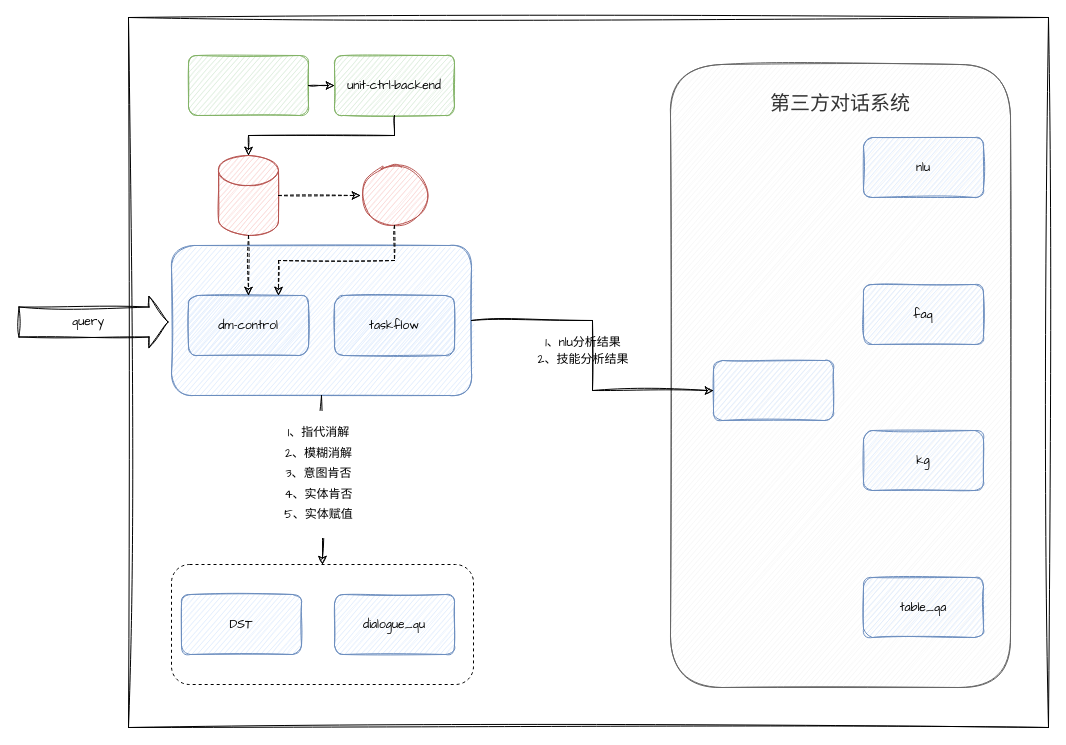
This 1066x745 diagram has some shape labels left out. The shapes that lost their labels are listed below. From the top down, each one's box as (x1, y1, x2, y2) in pixels, then its label:
(188, 54, 308, 116): unit-ctrl-web
(218, 154, 278, 236): mysql
(360, 164, 428, 226): redis
(170, 244, 472, 396): unit-ctrl
(712, 360, 834, 420): bot机器人
